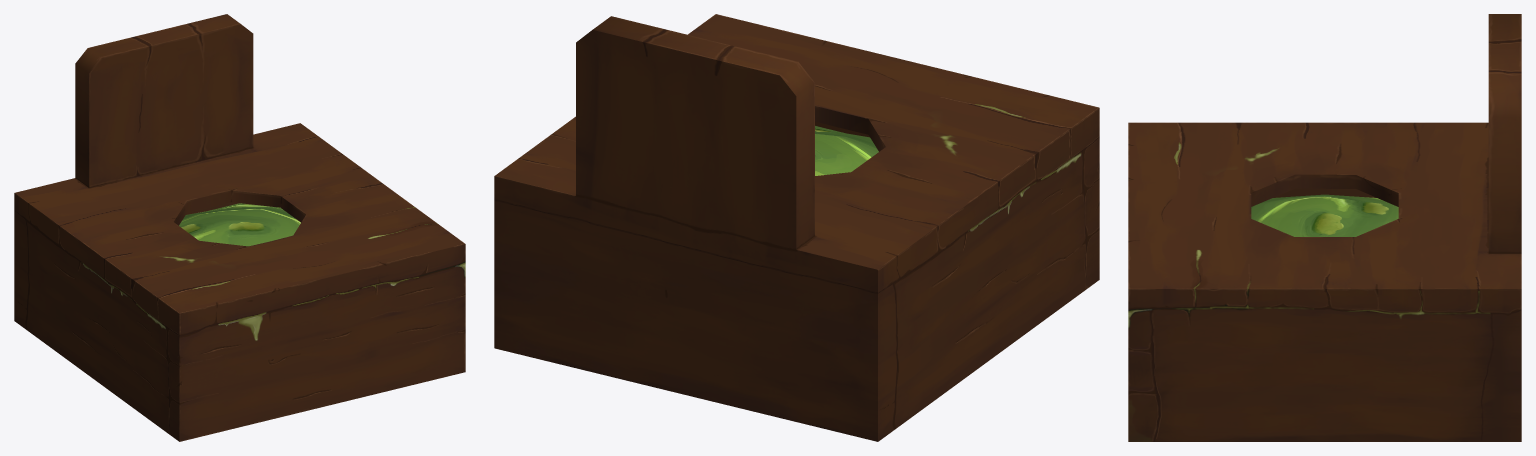
The model's file is bathroom_toilette_V02.glb.
3 renders of one model, left to right at view 1: azimuth 30°, elevation 25°; view 2: azimuth 150°, elevation 25°; view 3: azimuth 270°, elevation 25°, orthographic. The views are drawn at different scales.
Parts seen in each view (by area): view 1: Toilette01, InhaltToilette1; view 2: Toilette01, InhaltToilette1; view 3: Toilette01, InhaltToilette1.
Boxes of the visible parts, bbox=[...] form: Toilette01: bbox=[14, 14, 465, 441]; InhaltToilette1: bbox=[179, 203, 300, 246]; Toilette01: bbox=[494, 14, 1099, 441]; InhaltToilette1: bbox=[815, 126, 878, 175]; Toilette01: bbox=[1128, 14, 1521, 441]; InhaltToilette1: bbox=[1251, 194, 1398, 236].
Size of the model in its own units: 0.7 by 0.597 by 0.7.
Materials: 2 (2 with a texture image).
